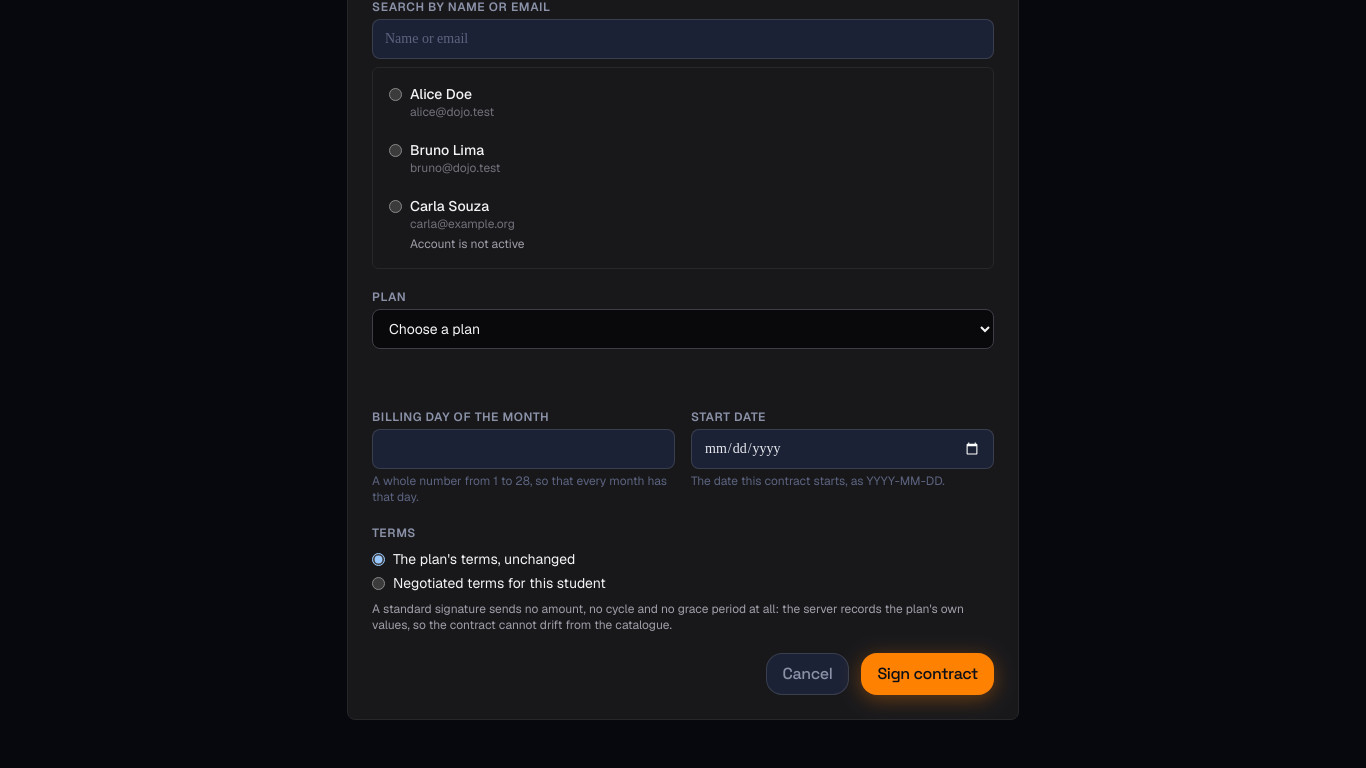
SignContractDialog › refuses a signature with no student chosen and issues no request
(page scrolled)
Expected: the radio button labelled "Alice Doe alice@dojo.test" is shown, [389,88,402,101]
Step 1. Click the button "Sign contract" → (928, 674), box [861,653,994,695]
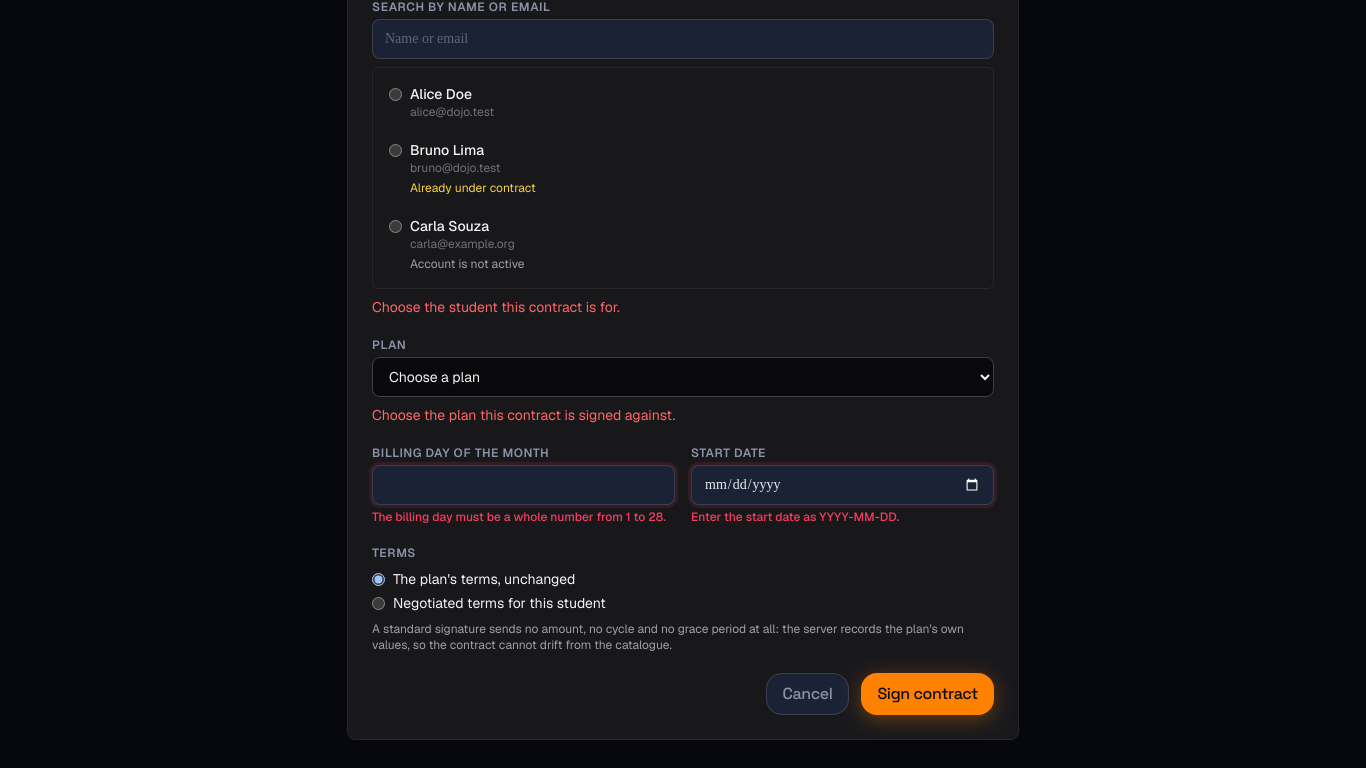
Expected: the text "Choose the student this contract is for." is shown, [372,298,620,316]
Expected: the text "Choose the plan this contract is signed against." is shown, [372,406,675,424]
